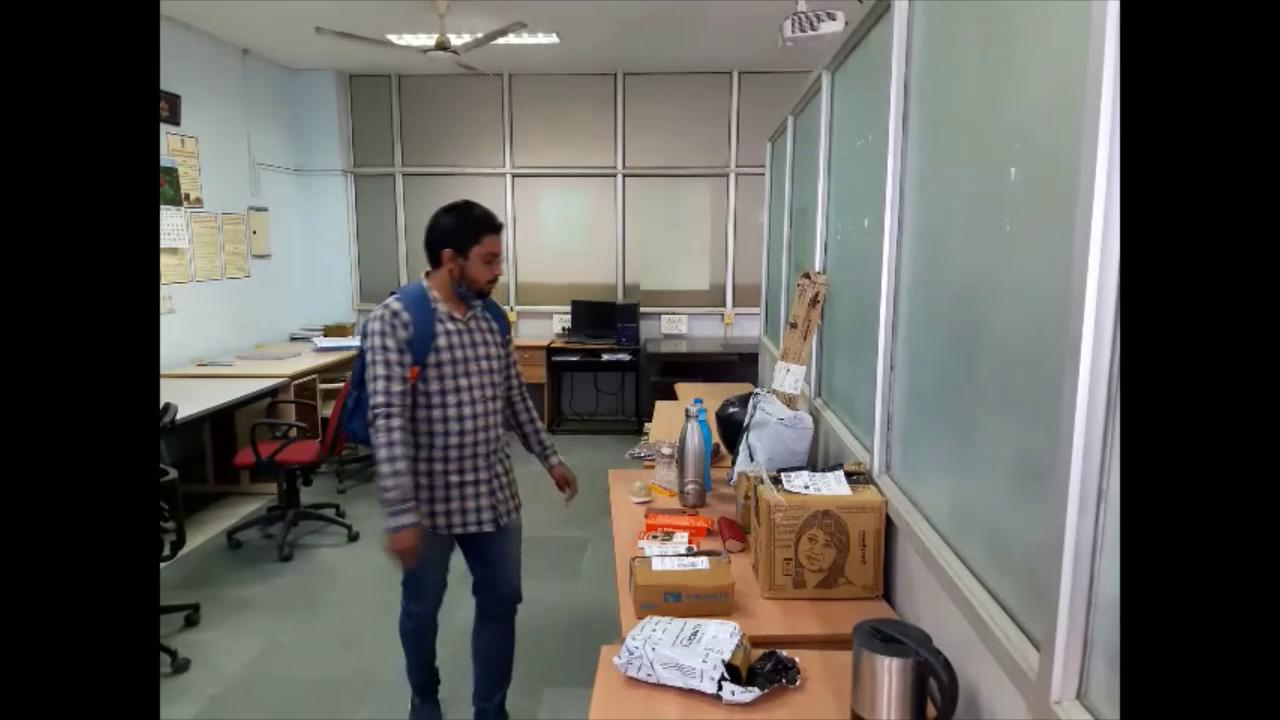Normal: (340, 171, 589, 717)
